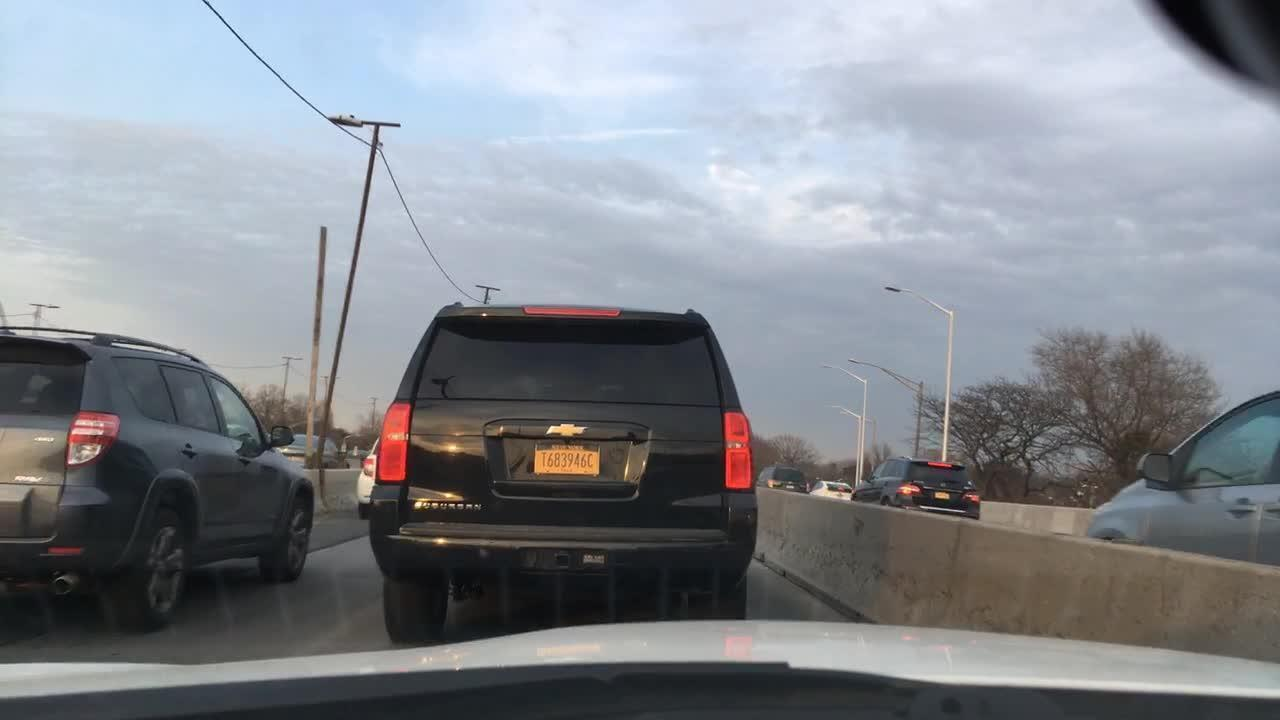chevrolet: (540, 412, 597, 443)
